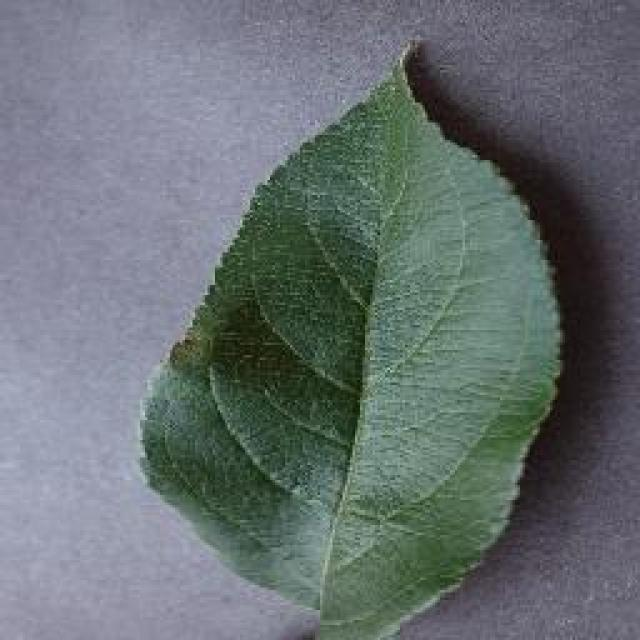apple healthy: (135, 35, 567, 637)
